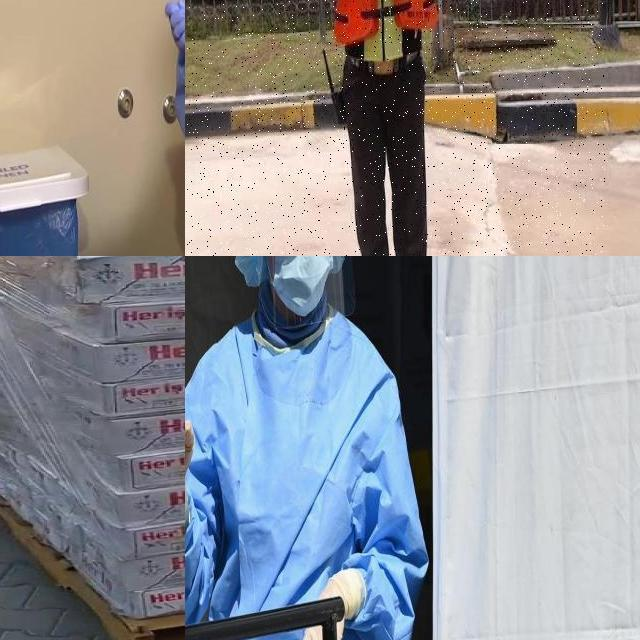GLOVE: (165, 0, 185, 63)
MASK: (274, 256, 335, 317)
VEST: (333, 0, 438, 66)
